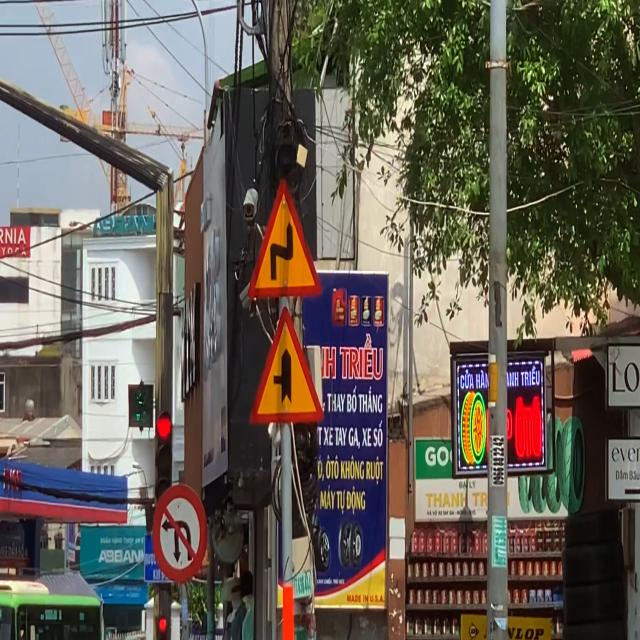Cam con lai: (152, 482, 208, 587)
Giao voi duong khong uu tien: (246, 305, 327, 428)
Nguy hiem: (245, 176, 326, 303)
